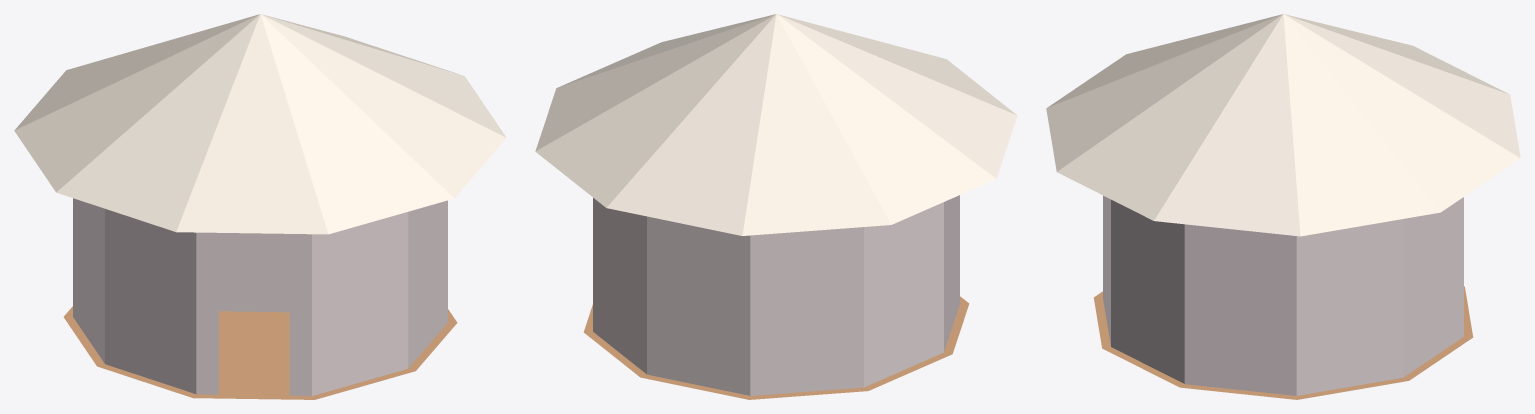
The model's file is zon_room_calendar_raw.glb.
The picture shows the model from 3 angles, left to right: view 1: azimuth 30°, elevation 25°; view 2: azimuth 150°, elevation 25°; view 3: azimuth 270°, elevation 25°; orthographic projection.
Parts seen in each view (by area): view 1: SM_zon_room_calendar_room_ceiling_x0_zm1_raw, SM_zon_room_calendar_room_paper_x0_zm1_raw, SM_zon_room_calendar_room_floor_x0_zm1_raw; view 2: SM_zon_room_calendar_room_ceiling_x0_zm1_raw, SM_zon_room_calendar_room_paper_x0_zm1_raw, SM_zon_room_calendar_room_floor_x0_zm1_raw; view 3: SM_zon_room_calendar_room_ceiling_x0_zm1_raw, SM_zon_room_calendar_room_paper_x0_zm1_raw, SM_zon_room_calendar_room_floor_x0_zm1_raw.
Part boxes in pixels (x1=…): SM_zon_room_calendar_room_ceiling_x0_zm1_raw: x1=14, y1=14, x2=506, y2=234; SM_zon_room_calendar_room_paper_x0_zm1_raw: x1=73, y1=198, x2=447, y2=395; SM_zon_room_calendar_room_floor_x0_zm1_raw: x1=63, y1=306, x2=457, y2=399; SM_zon_room_calendar_room_ceiling_x0_zm1_raw: x1=535, y1=14, x2=1017, y2=235; SM_zon_room_calendar_room_paper_x0_zm1_raw: x1=593, y1=195, x2=959, y2=395; SM_zon_room_calendar_room_floor_x0_zm1_raw: x1=583, y1=296, x2=969, y2=399; SM_zon_room_calendar_room_ceiling_x0_zm1_raw: x1=1046, y1=14, x2=1520, y2=236; SM_zon_room_calendar_room_paper_x0_zm1_raw: x1=1103, y1=195, x2=1463, y2=395; SM_zon_room_calendar_room_floor_x0_zm1_raw: x1=1093, y1=286, x2=1473, y2=399.
Bounding box in the file's own units: 13.22 × 9.1 × 12.86.
